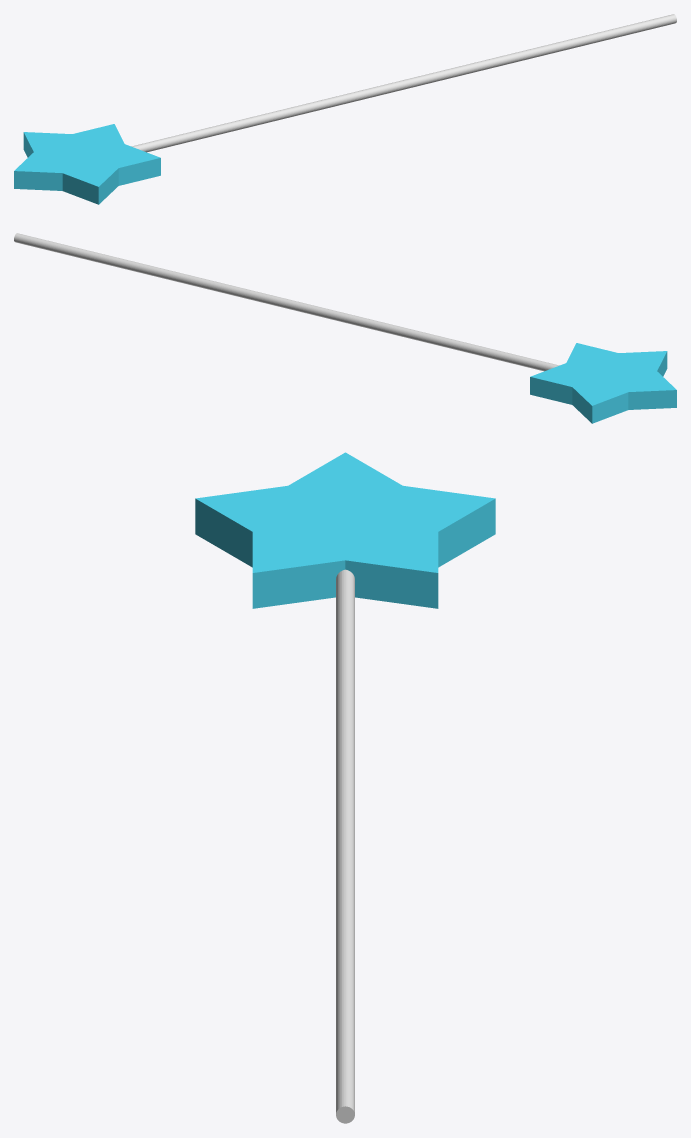
Rendered from epic_wizard_wand.obj.
3 views of the same model, one above another, from view 1: azimuth 30°, elevation 25°; view 2: azimuth 150°, elevation 25°; view 3: azimuth 270°, elevation 25° (orthographic). The views are drawn at different scales.
Parts seen in each view (by area): view 1: 五角星_柱体.001, 杆_柱体.008; view 2: 五角星_柱体.001, 杆_柱体.008; view 3: 五角星_柱体.001, 杆_柱体.008.
Boxes of the visible parts, <box> form: 五角星_柱体.001: <box>14,124,160,204</box>; 杆_柱体.008: <box>131,14,676,152</box>; 五角星_柱体.001: <box>530,343,676,423</box>; 杆_柱体.008: <box>14,233,559,371</box>; 五角星_柱体.001: <box>195,452,495,608</box>; 杆_柱体.008: <box>336,569,354,1123</box>.
Size of the model in its own units: 1.93 by 0.05 by 0.3804.
